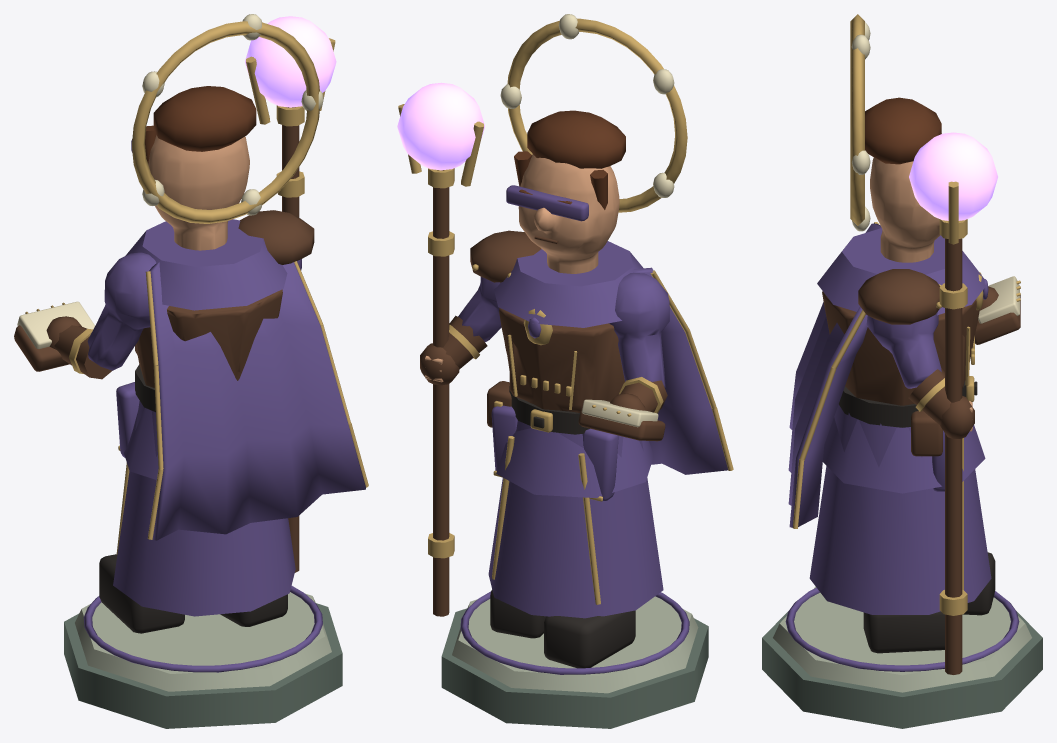
The model's file is advanced_arcaneseer.glb.
3 views of the same model, side by side, from view 1: azimuth 30°, elevation 25°; view 2: azimuth 150°, elevation 25°; view 3: azimuth 270°, elevation 25° (orthographic). The views are drawn at different scales.
Visible parts, largest first — view 1: Rank inlay.001, Beveled limestone top.001, Boot cuff.002, Boot shaft.002, Octagonal footing.001, Unified face and neck.001, Auburn eyebrow.002, Spell focus.001, Leather boot toe.002, Eye white.002; view 2: Rank inlay.001, Boot shaft.002, Boot cuff.002, Octagonal footing.001, Beveled limestone top.001, Unified face and neck.001, Leather boot toe.002, Spell focus.001, Auburn eyebrow.002, Eye white.002; view 3: Rank inlay.001, Boot shaft.002, Beveled limestone top.001, Octagonal footing.001, Boot cuff.002, Spell focus.001, Leather boot toe.002, Unified face and neck.001, Auburn eyebrow.002, Eye white.002.
Part boxes in pixels (x1,y1,x2,y2): Rank inlay.001: (83,139,365,672); Beveled limestone top.001: (75,592,331,691); Boot cuff.002: (25,21,368,554); Boot shaft.002: (14,107,314,572); Octagonal footing.001: (64,603,342,728); Unified face and neck.001: (148,135,249,250); Auburn eyebrow.002: (145,86,256,163); Spell focus.001: (245,16,336,107); Leather boot toe.002: (99,364,287,633); Eye white.002: (17,14,323,348); Rank inlay.001: (458,185,727,674); Boot shaft.002: (420,170,667,616); Boot cuff.002: (398,18,733,604); Octagonal footing.001: (441,608,708,728); Beveled limestone top.001: (452,596,698,693); Unified face and neck.001: (425,154,619,382); Leather boot toe.002: (490,386,635,668); Spell focus.001: (397,82,484,170); Auburn eyebrow.002: (514,110,625,209); Eye white.002: (500,14,674,427); Rank inlay.001: (785,223,1019,671); Boot shaft.002: (822,238,1020,674); Beveled limestone top.001: (773,586,1031,692); Octagonal footing.001: (762,611,1042,728); Boot cuff.002: (792,14,1020,615); Spell focus.001: (909,132,997,220); Leather boot toe.002: (839,380,995,653); Unified face and neck.001: (870,133,972,431); Auburn eyebrow.002: (865,97,941,164); Eye white.002: (851,22,1019,323).
Bounding box in the file's own units: 1.02 × 2.24 × 0.88.
